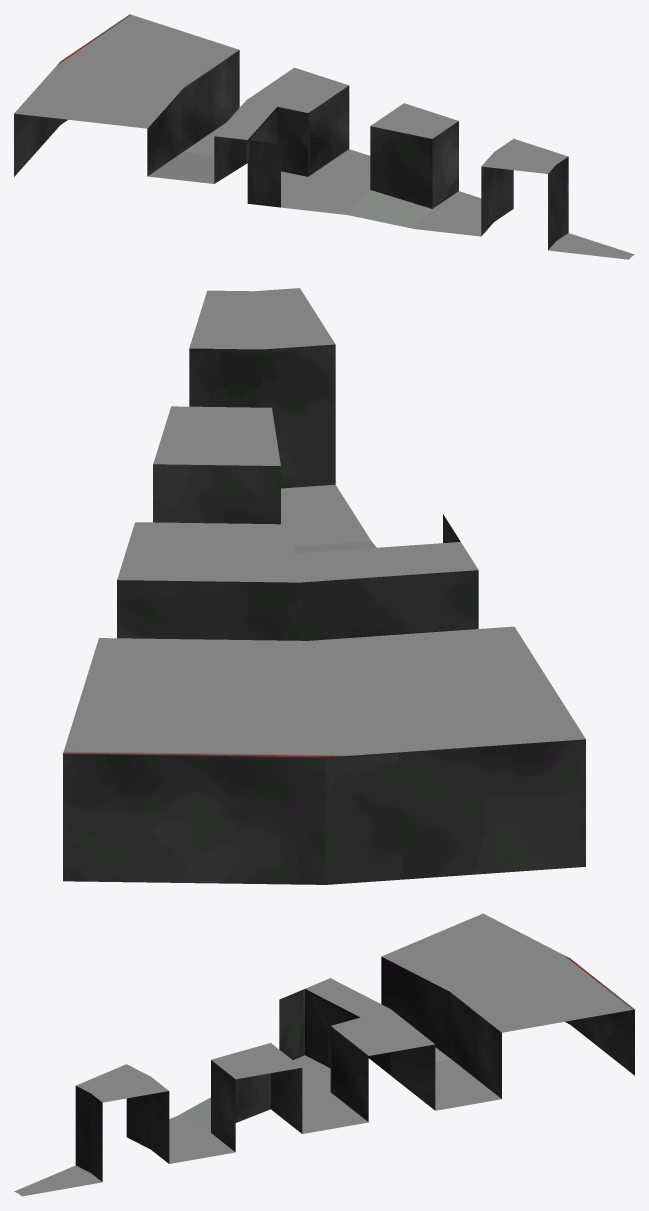
The model's file is bottom_15.obj.
3 views of the same model, one above another, from view 1: azimuth 30°, elevation 25°; view 2: azimuth 150°, elevation 25°; view 3: azimuth 270°, elevation 25° (orthographic). The views are drawn at different scales.
Parts seen in each view (by area): view 1: Cylinder.007; view 2: Cylinder.007; view 3: Cylinder.007.
Part boxes in pixels (x1,y1,x2,y2): Cylinder.007: (14, 14, 634, 259); Cylinder.007: (63, 288, 585, 884); Cylinder.007: (14, 913, 634, 1196).
Bounding box in the file's own units: 26.25 × 4.8 × 33.89.
